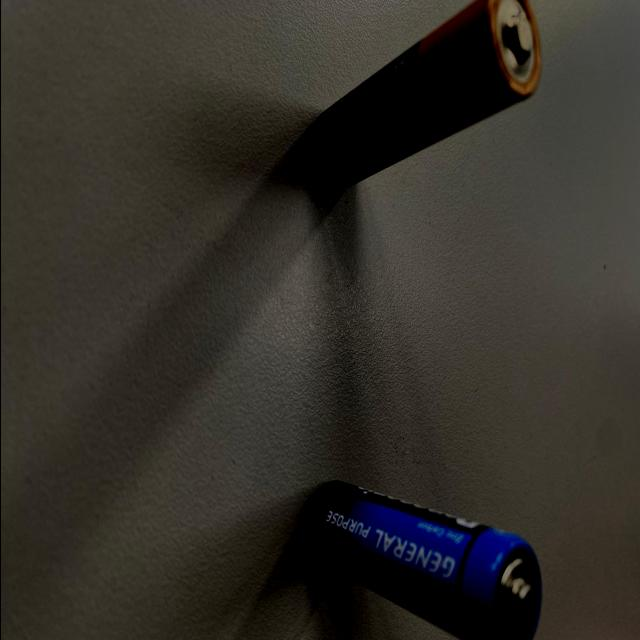AA: (310, 1, 542, 192), (307, 479, 542, 639)
